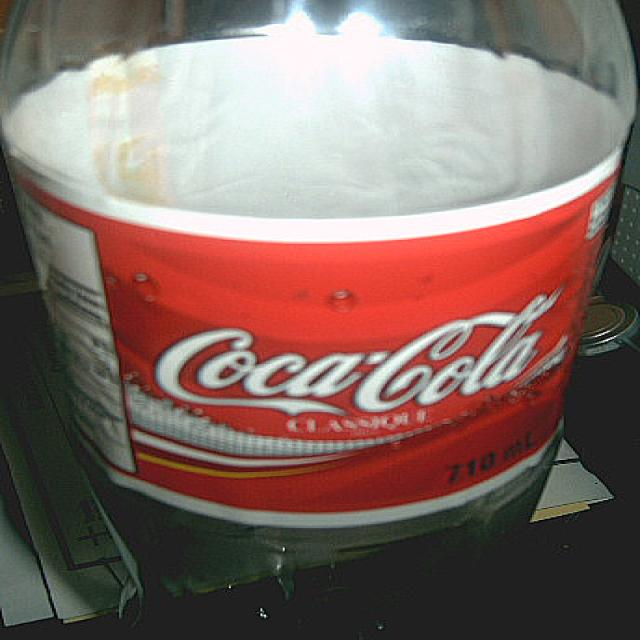bottle: (1, 1, 639, 640)
